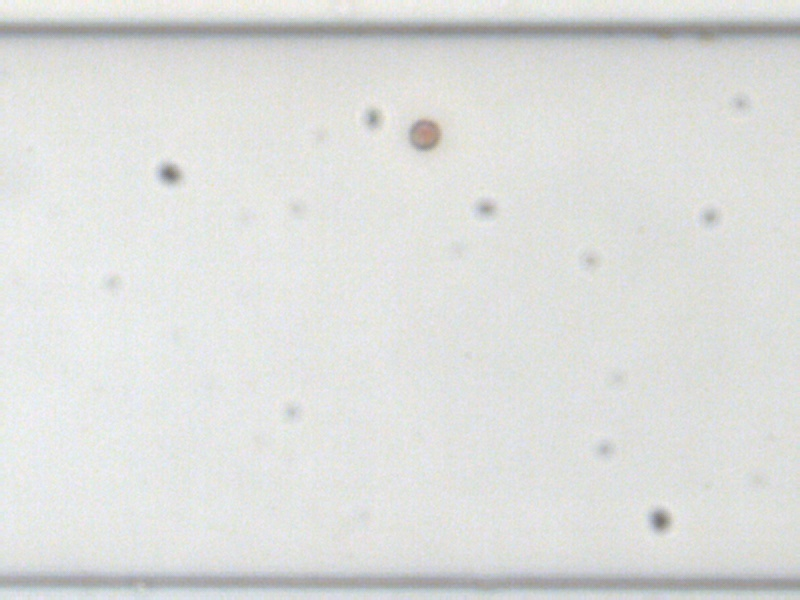Porphyridium: (405, 116, 442, 152)
